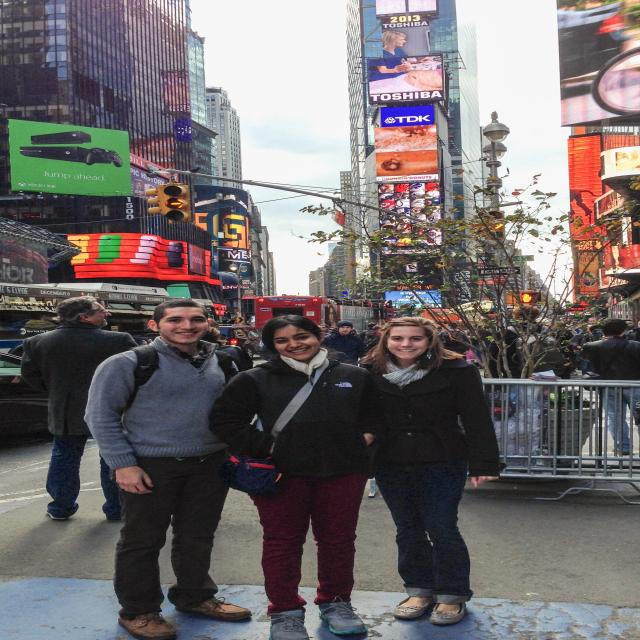body: (78, 296, 260, 640), (205, 313, 386, 640), (360, 315, 507, 627), (18, 295, 138, 521), (581, 319, 640, 456), (483, 304, 571, 378), (477, 324, 516, 404), (203, 326, 256, 374), (320, 320, 369, 365), (535, 316, 610, 338), (572, 324, 596, 377), (438, 322, 468, 362), (346, 328, 388, 354), (20, 310, 55, 338), (363, 325, 382, 356), (433, 320, 478, 333), (318, 305, 339, 332), (621, 319, 640, 345), (359, 322, 377, 340), (587, 317, 602, 332), (319, 323, 332, 336)
